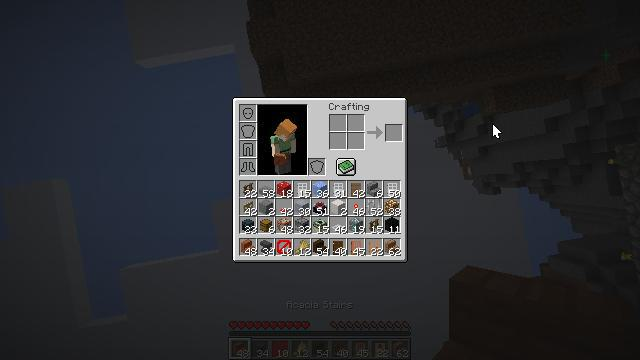cursor: (492, 123, 502, 139)
